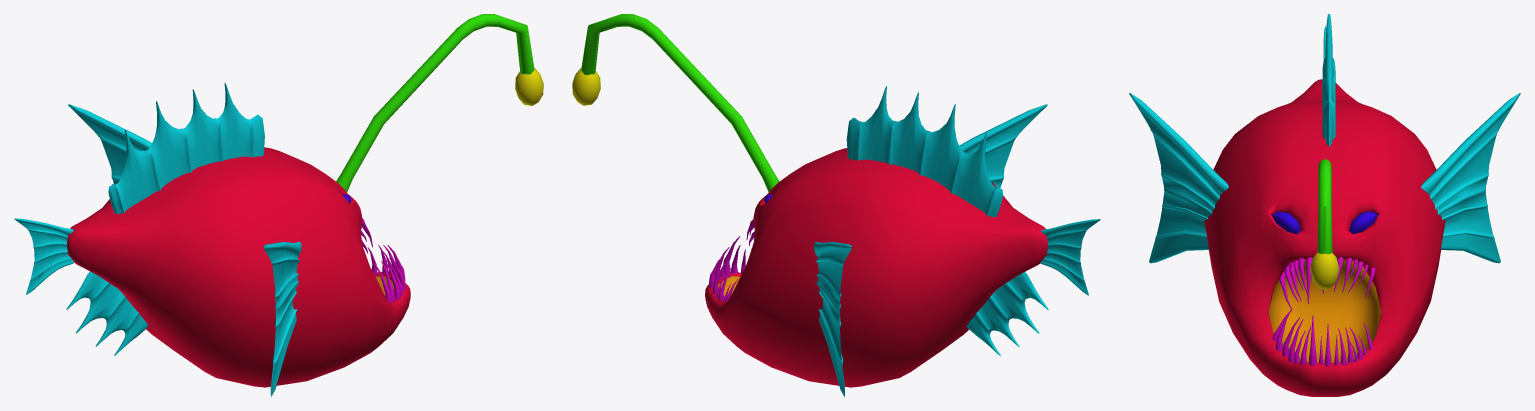
Rendered from angler_fish.fbx.
The picture shows the model from 3 angles, left to right: view 1: azimuth 30°, elevation 25°; view 2: azimuth 150°, elevation 25°; view 3: azimuth 270°, elevation 25°; orthographic projection.
Visible parts, largest first — view 1: Plane.007; view 2: Plane.007; view 3: Plane.007.
Part boxes in pixels (x1,y1,x2,y2): Plane.007: (14,14,543,396); Plane.007: (572,14,1100,396); Plane.007: (1129,14,1520,396).
Bounding box in the file's own units: 901 × 493 × 580.
